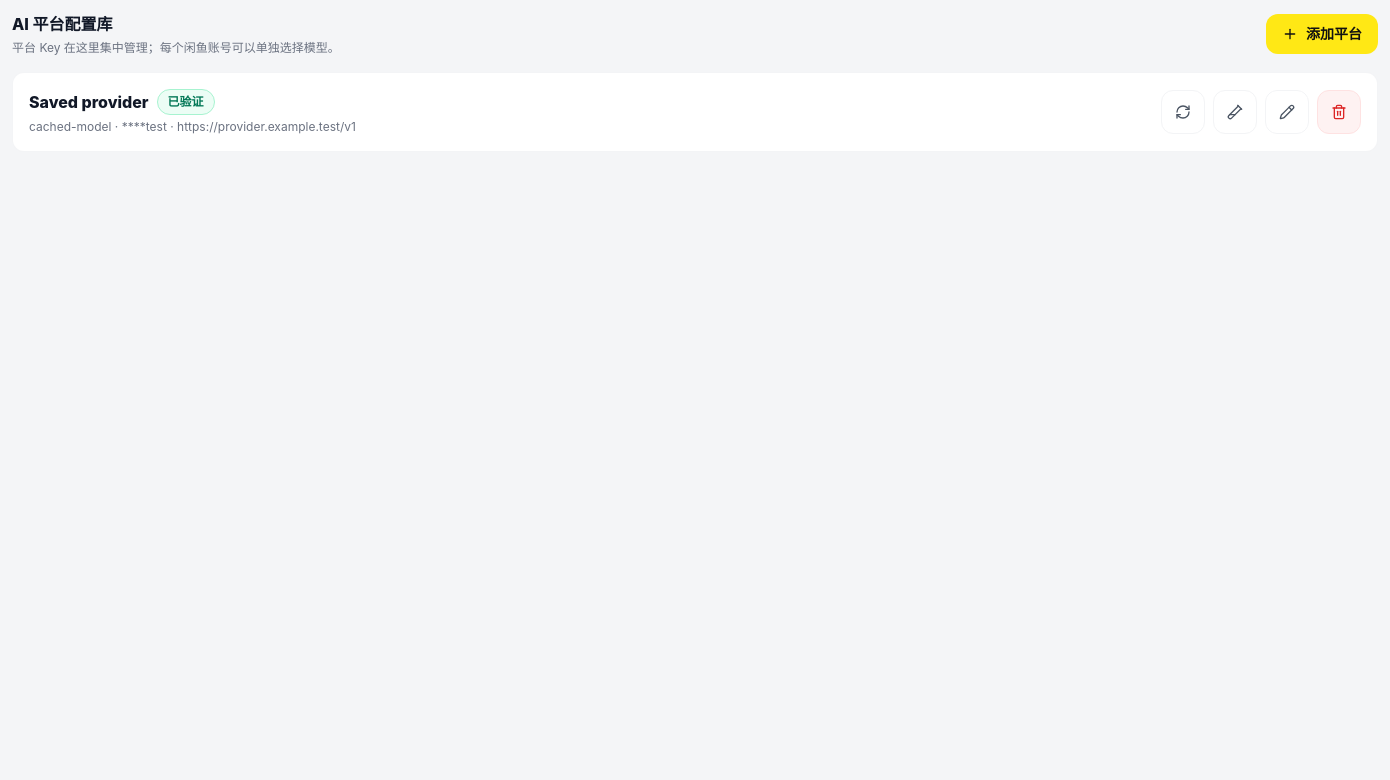
Test: AIProviderManager model discovery › restores the cached model list while editing an existing provider
Click the button named "编辑平台": click(1287, 112) [1265,90,1309,134]
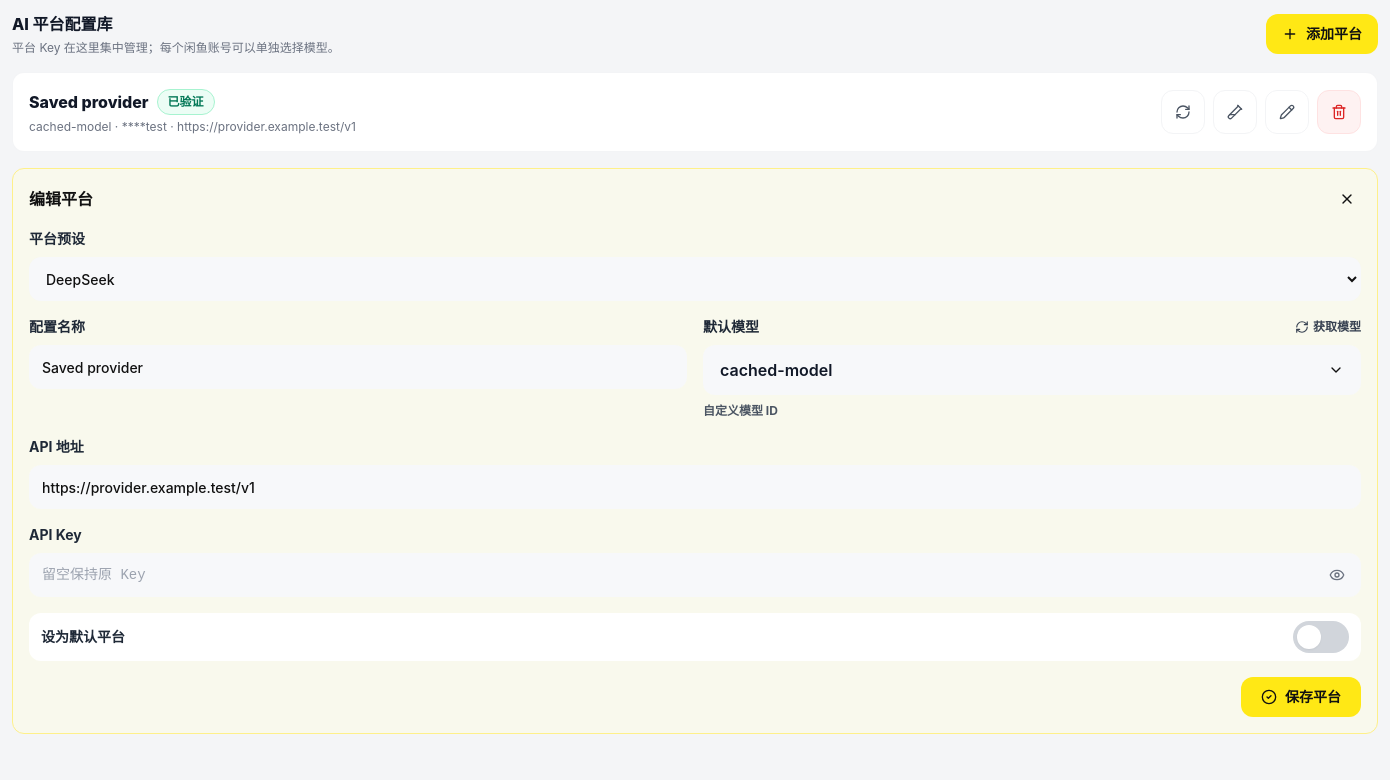
Check: the button "cached-model" is shown
Click the button "cached-model": click(776, 370) [703,345,1361,395]
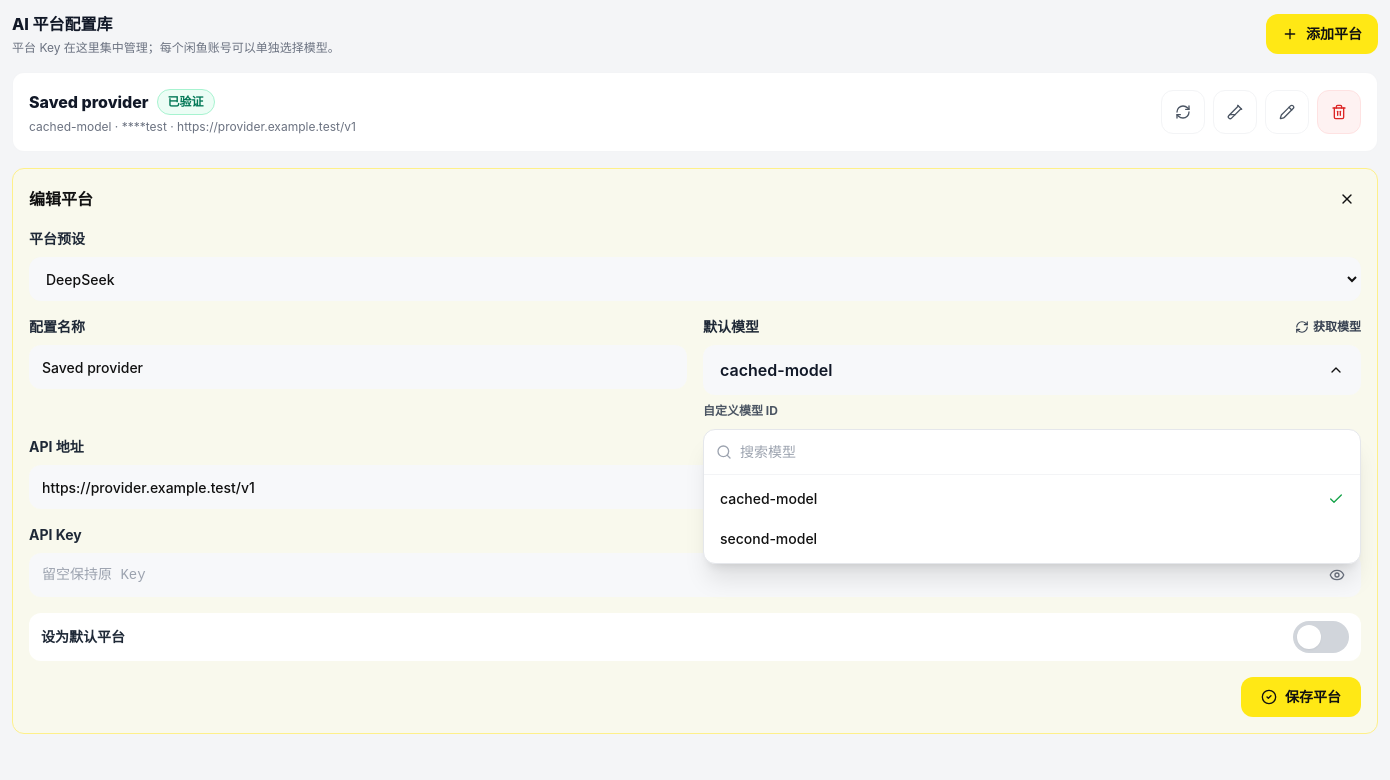
Check: the option "second-model" is shown, box [708,519,1356,559]
